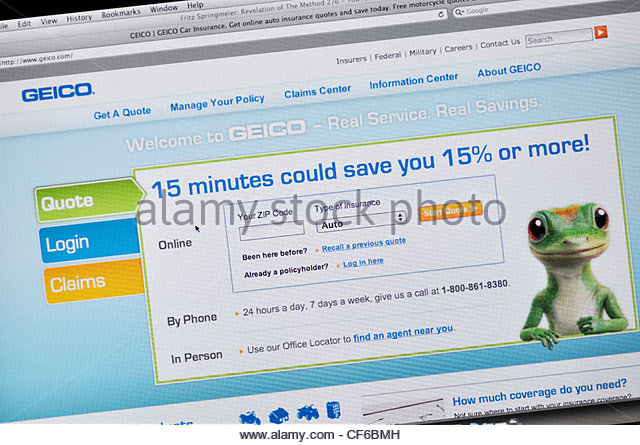geico: (17, 84, 99, 103), (509, 60, 542, 76)
